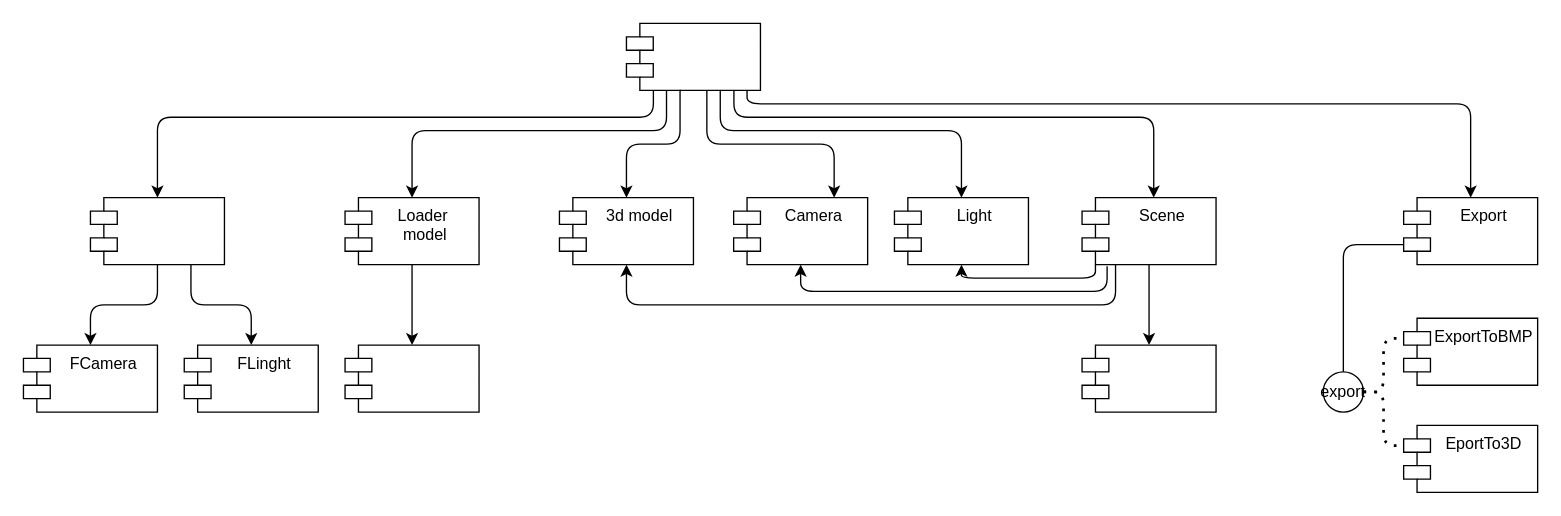
Image size: 1561x516. Some labels were removed from this diagram. The shapes that lost their labels are listed below. From the top down, each one's box as (x1, y1, x2, y2) in pixels, then its label:
(625, 22, 760, 90): main
(89, 196, 224, 265): Factory component
(344, 344, 479, 412): Factory Model
(1081, 344, 1216, 412): Render
